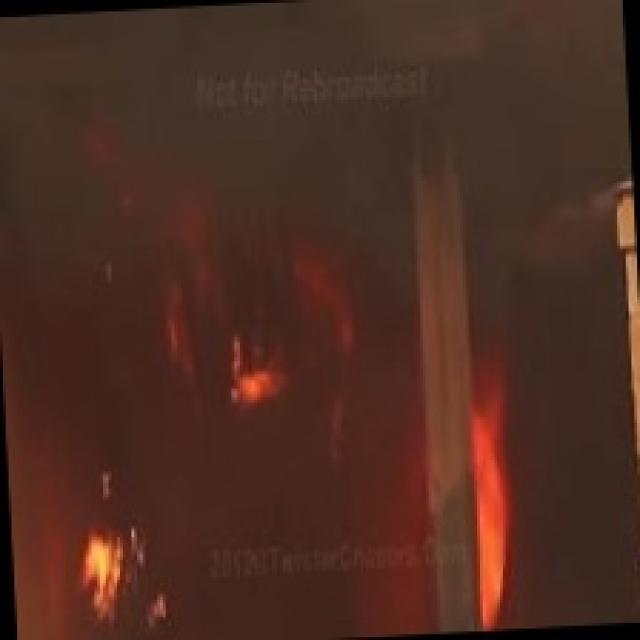smoke: (0, 0, 491, 263)
